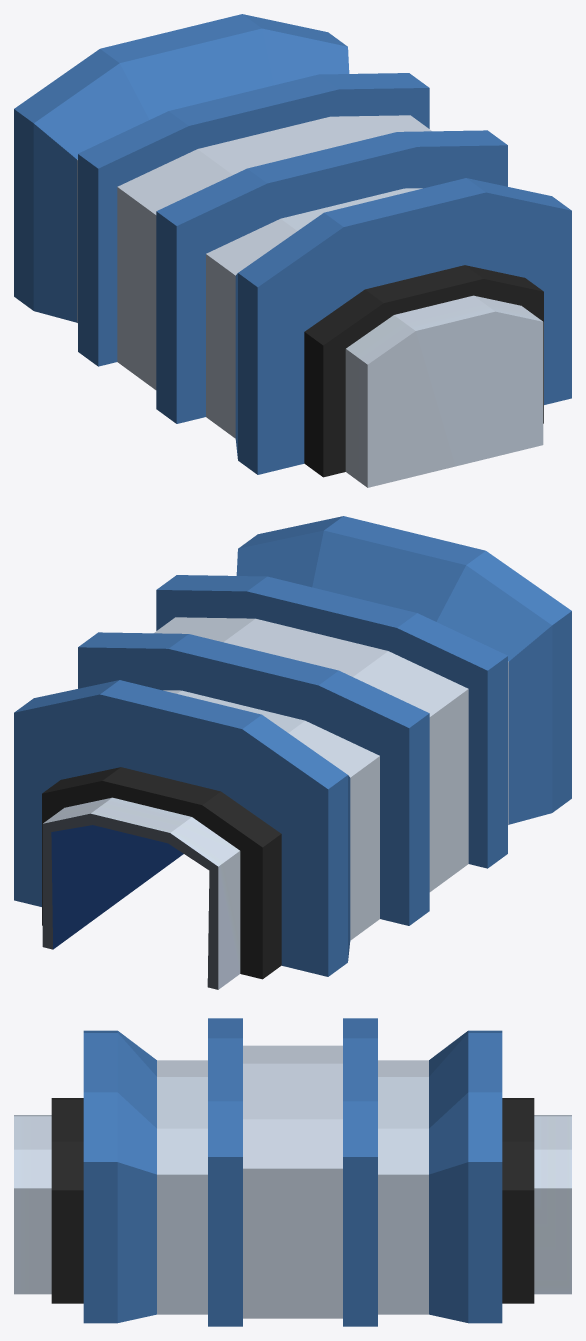
The model's file is Angar.fbx.
3 renders of one model, top to bottom at view 1: azimuth 30°, elevation 25°; view 2: azimuth 150°, elevation 25°; view 3: azimuth 270°, elevation 25°, orthographic. The views are drawn at different scales.
Visible parts, largest first — view 1: Cube; view 2: Cube; view 3: Cube.
Boxes of the visible parts, x1,y1,x2,y2 form: Cube: (14, 14, 571, 487); Cube: (14, 516, 571, 989); Cube: (14, 1018, 571, 1326).
Bounding box in the file's own units: 4.33 × 7.35 × 2.83.
1 material, 1 textured.
